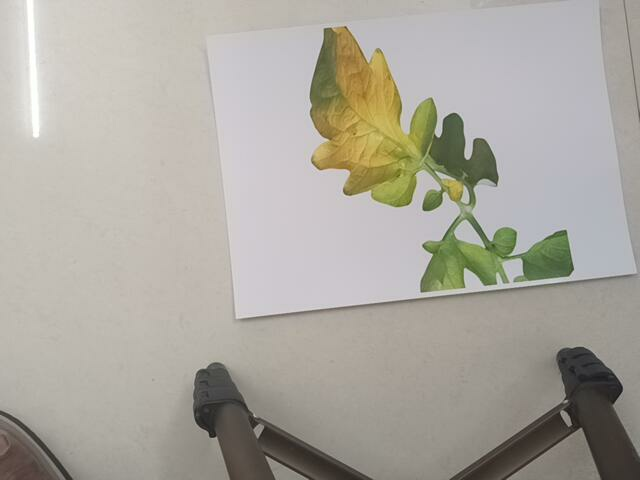Tomamto_Yellow_Disease: (303, 20, 582, 292)
